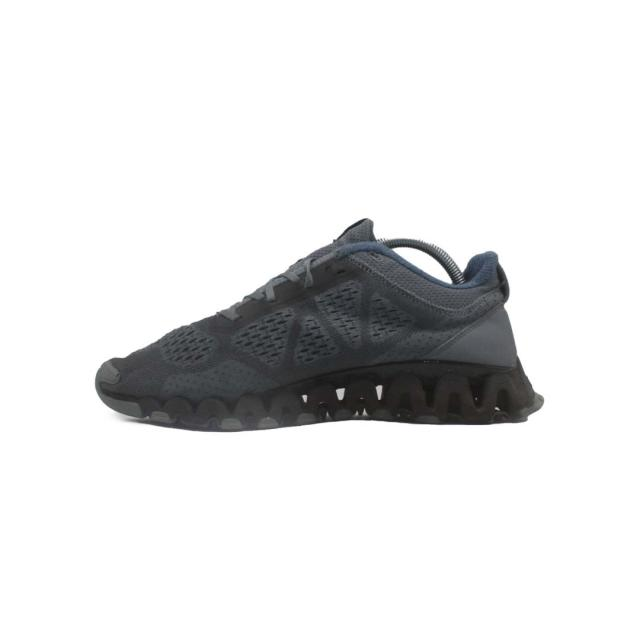heel: (477, 260, 520, 361)
midsole: (94, 356, 545, 430)
uppersole: (97, 219, 490, 398)
